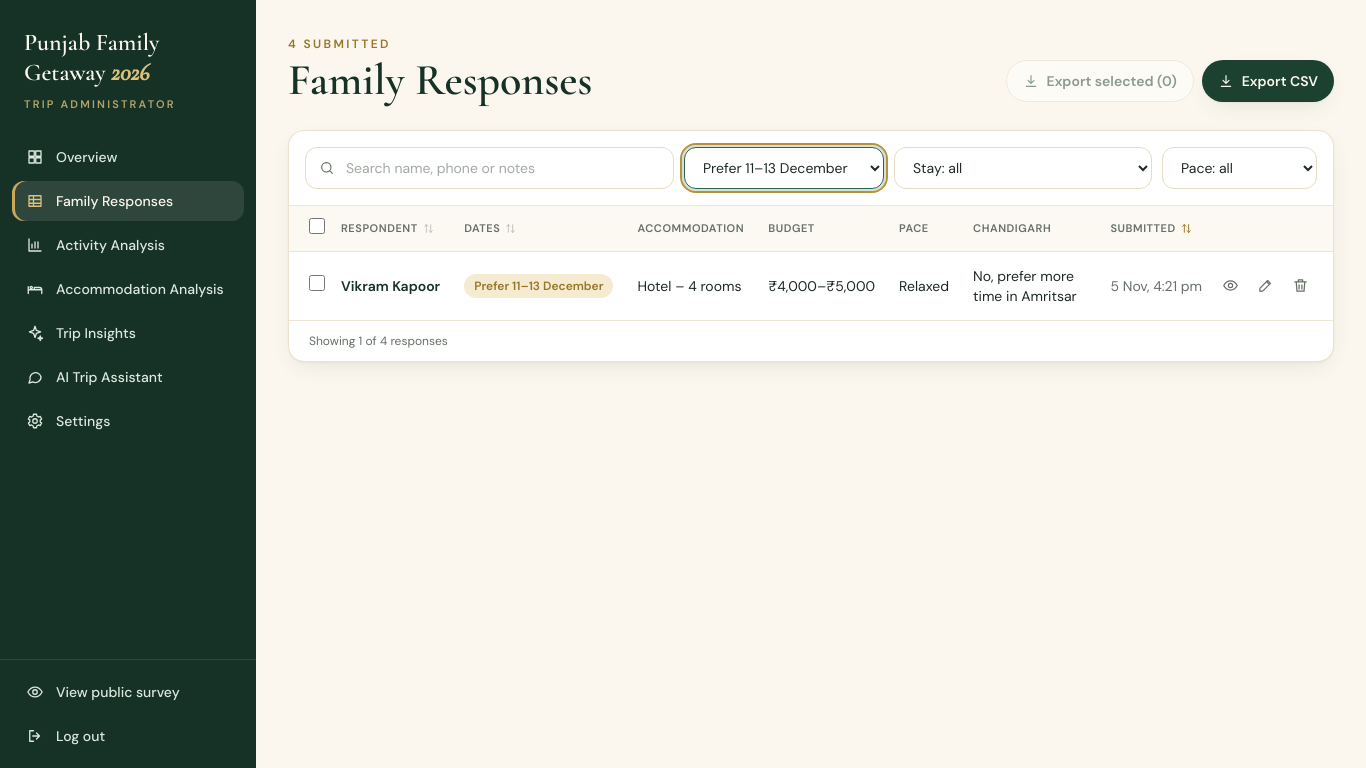
Test: admin dashboard › searches, filters, exports and deletes with confirmation
Earlier steps of the test are not shown.
Expected: the text "Showing 1 of 4 responses" is shown, [289,320,1333,361]
Select "Dates: all" in the dropdown named "Dates": (784, 168) [684,147,884,189]
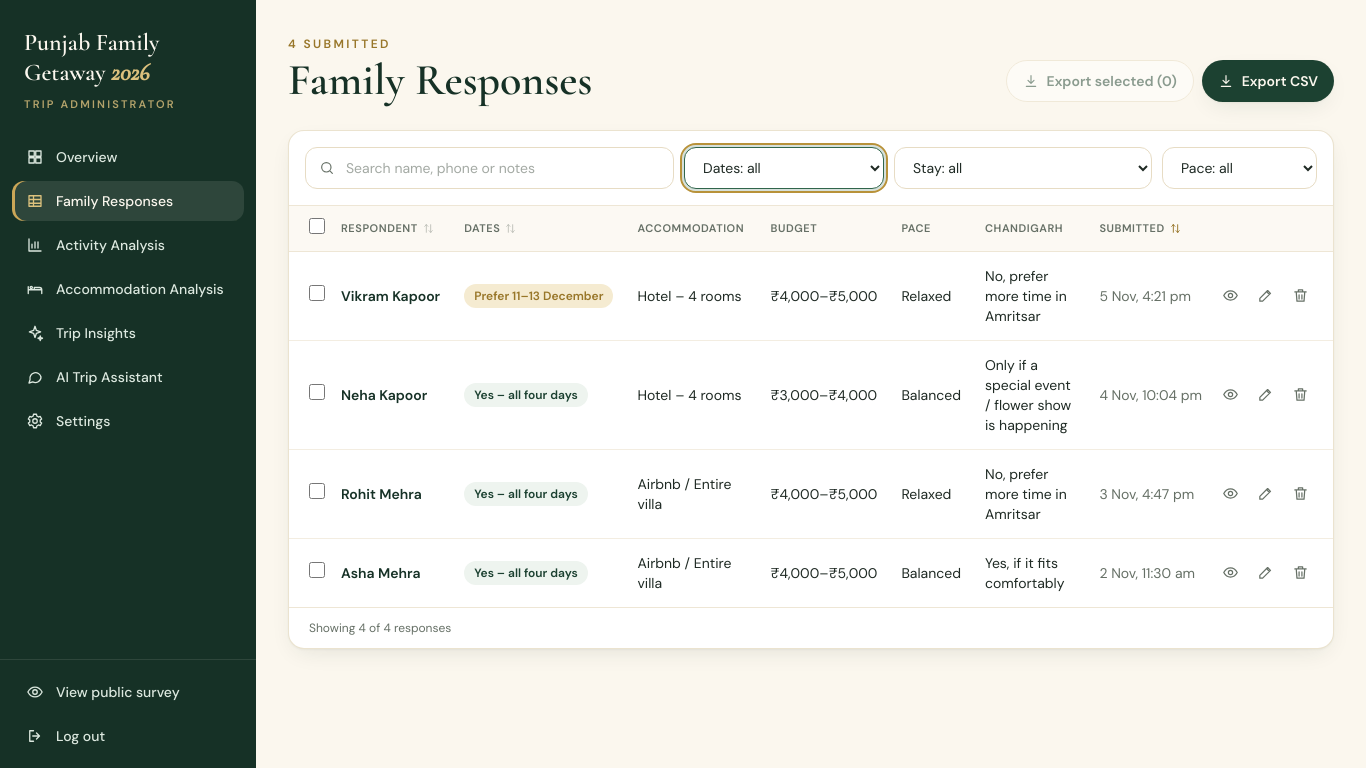
Click the button "Export CSV": (1268, 81) [1202,60,1334,102]
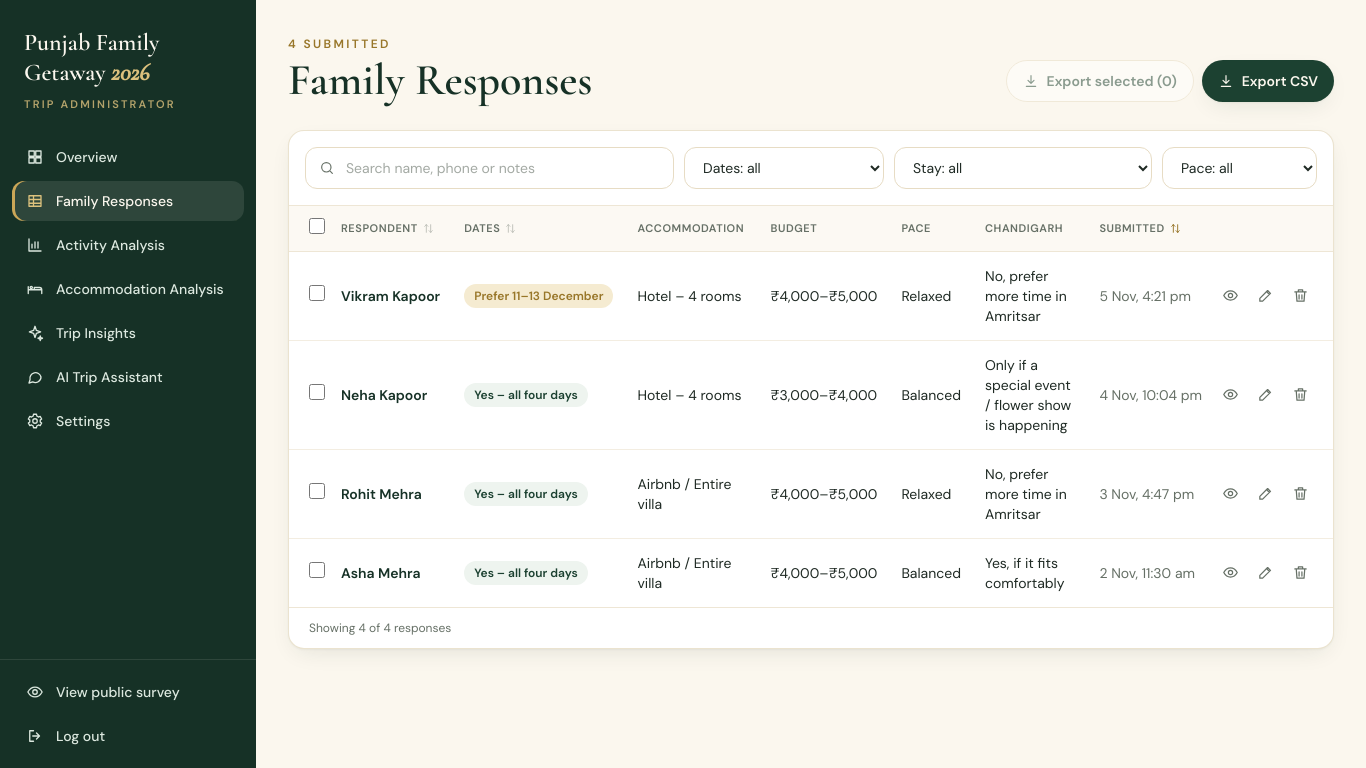
Click the checkbox named "select asha mehra": (317, 570) [309,562,325,578]
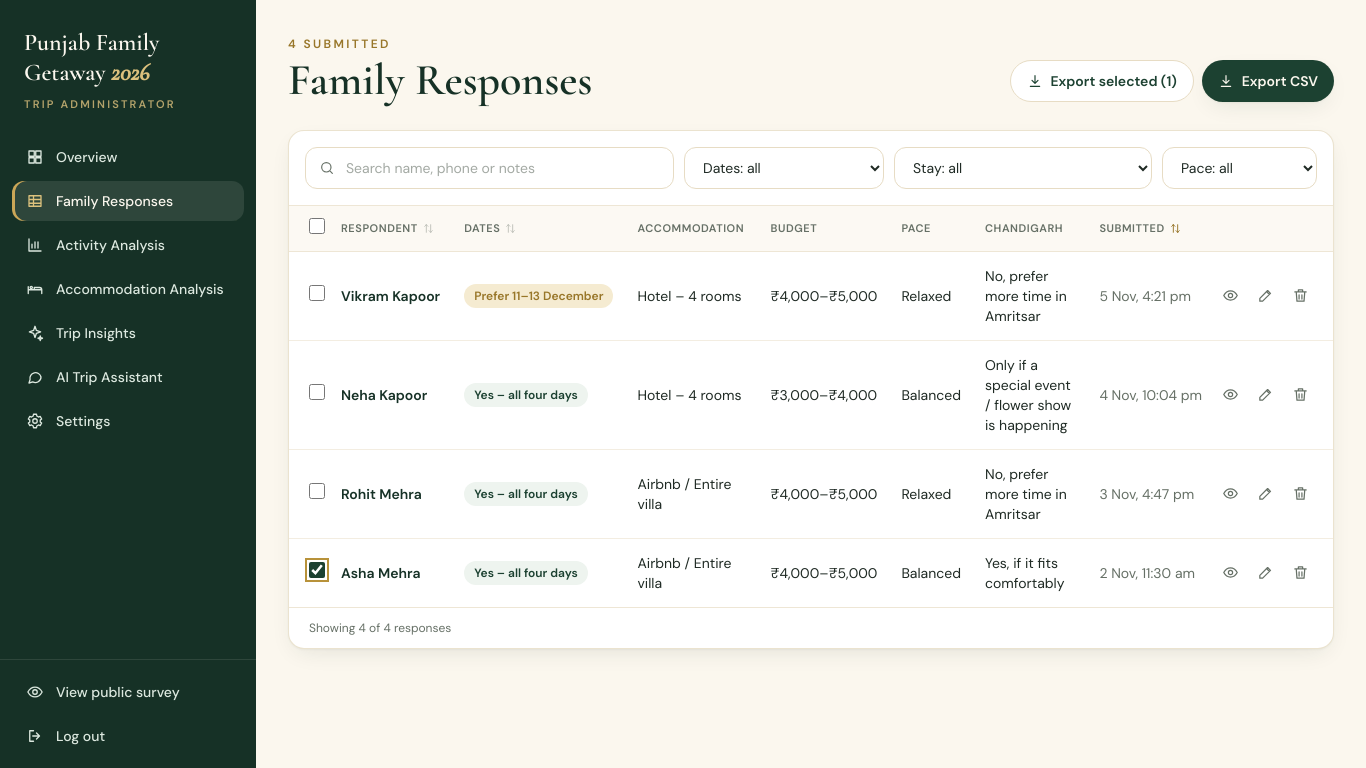
Click the button "Export selected (1)": (1102, 81) [1010,60,1194,102]
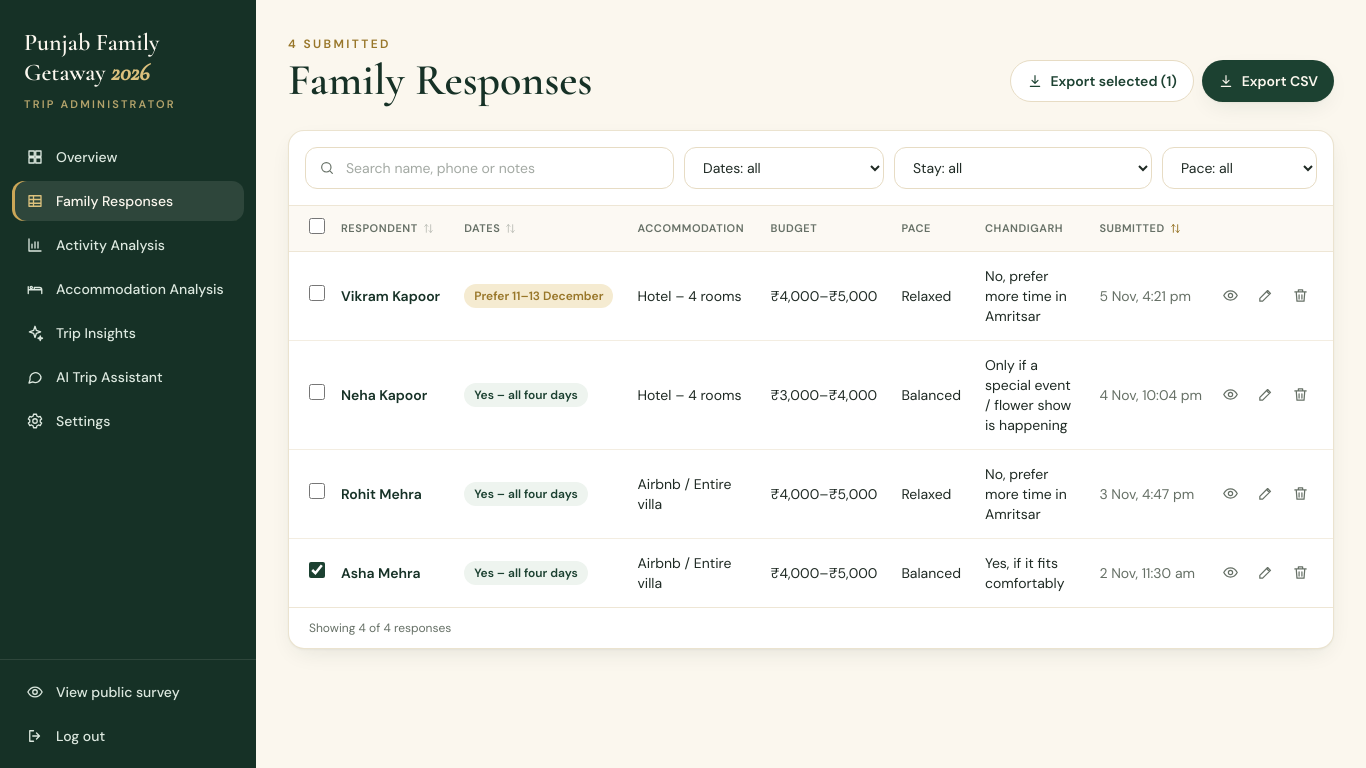
Click the button named "delete rohit mehra": (1300, 494) [1284,477,1317,510]
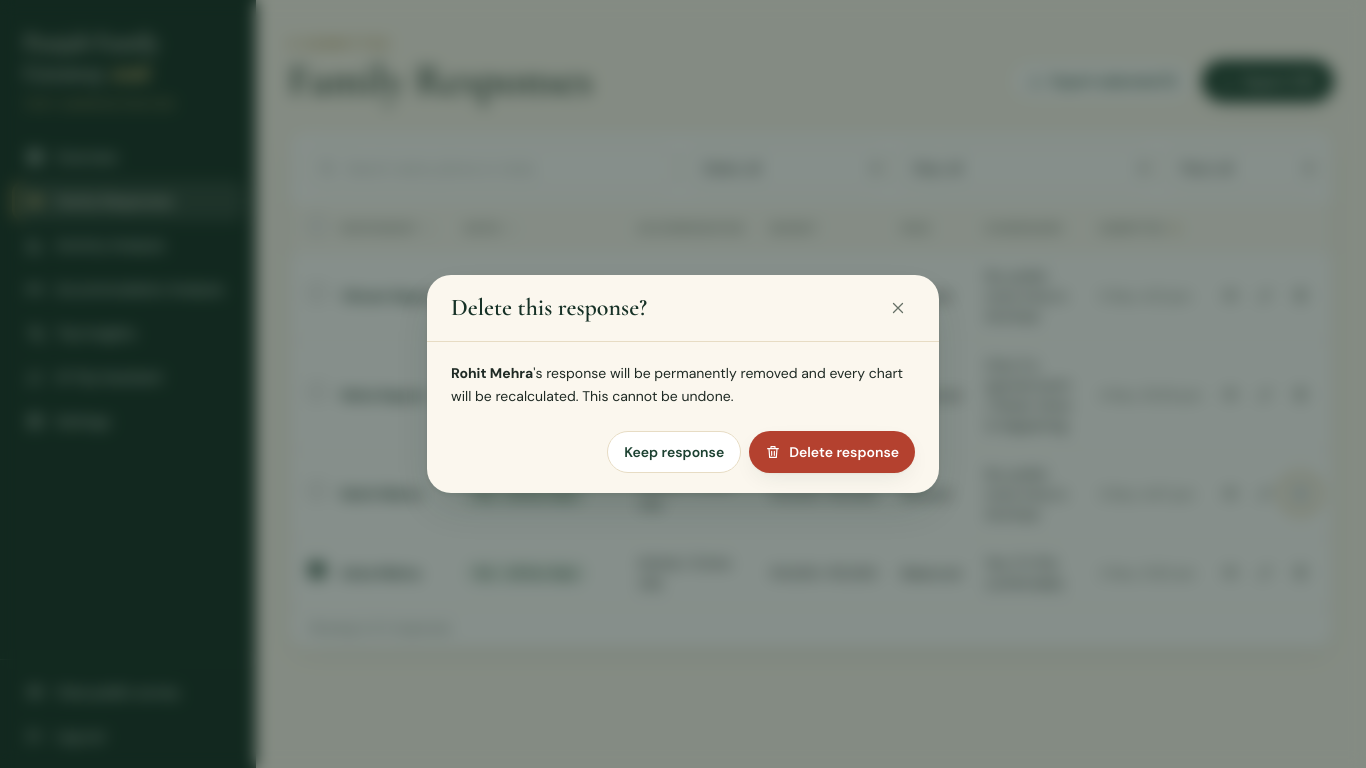
Click the button "Delete response": (832, 452) [749,431,915,473]
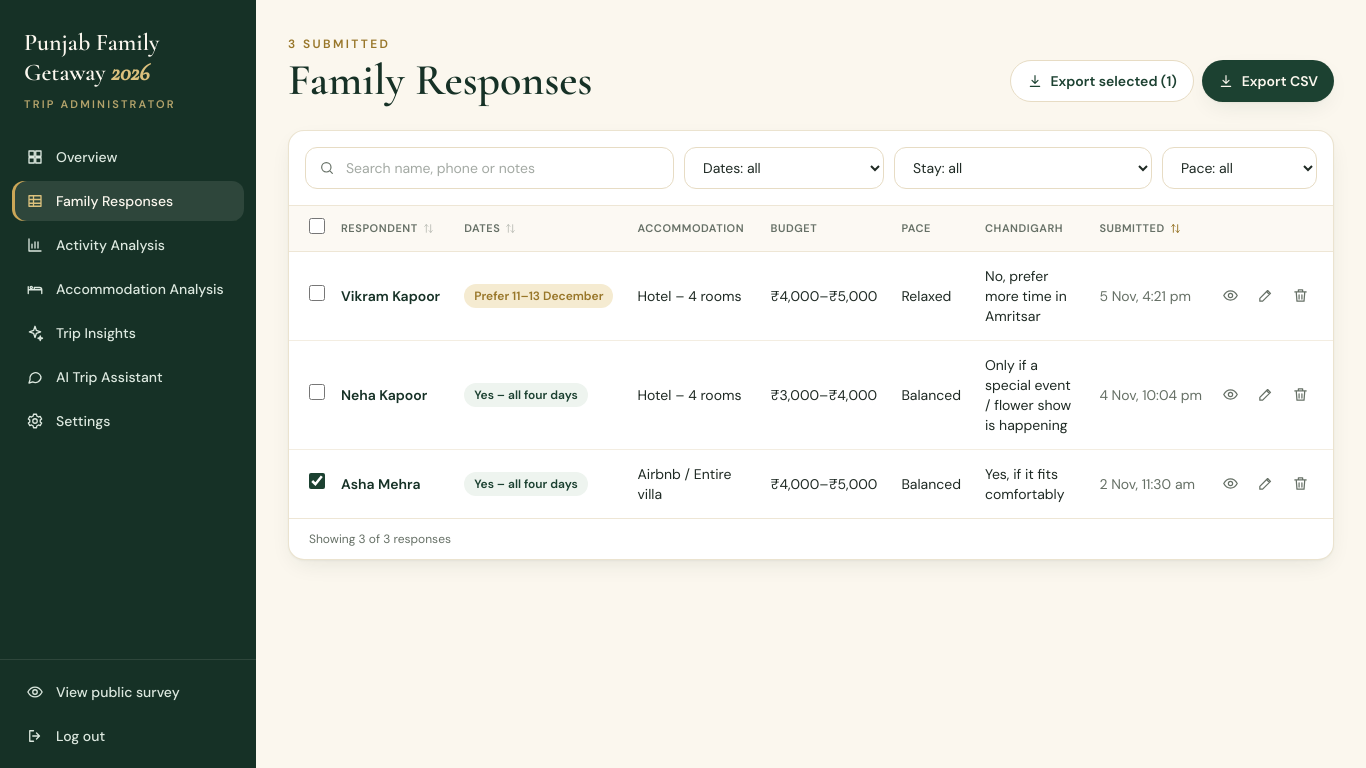
Expected: the text "Showing 3 of 3 responses" is shown, [289,518,1333,559]
